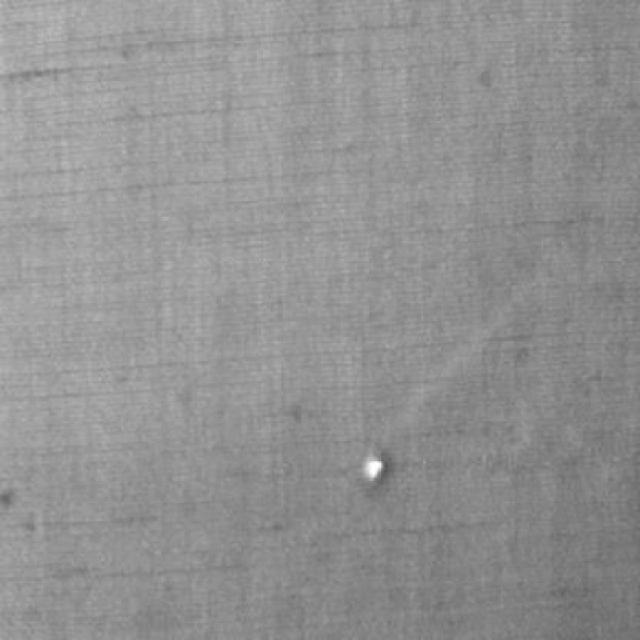other: (291, 408, 425, 506)
